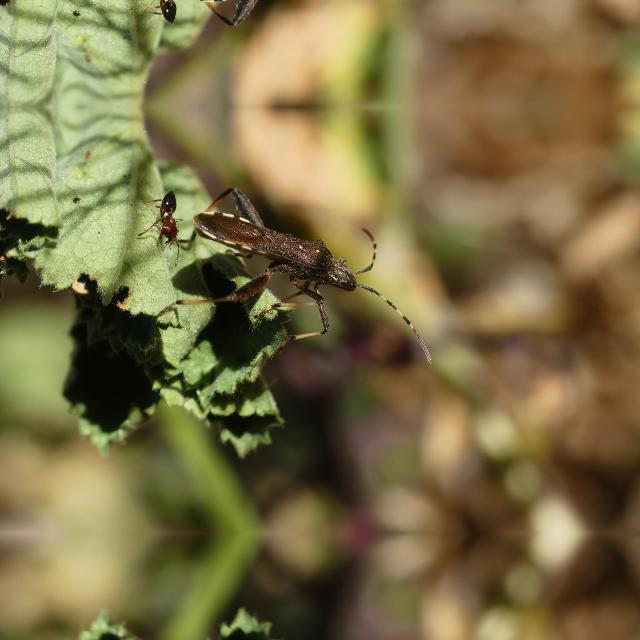Crematogaster: (150, 188, 184, 248), (149, 0, 184, 24)
